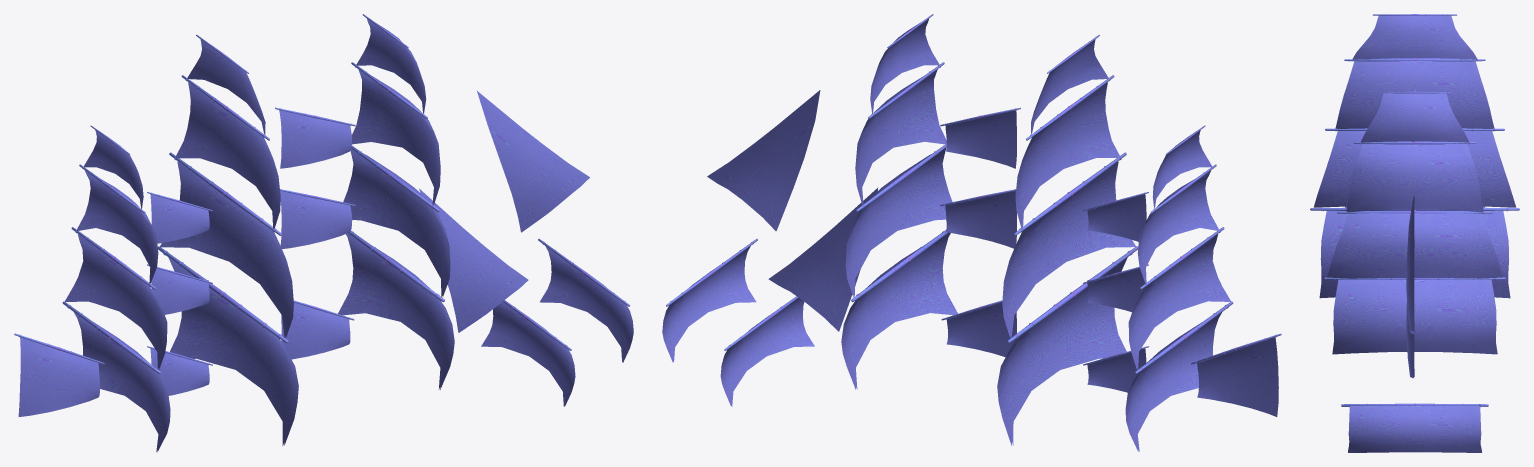
Rendered from statek_lod_zagle_lvl_04.fbx.
3 renders of one model, left to right at view 1: azimuth 30°, elevation 25°; view 2: azimuth 150°, elevation 25°; view 3: azimuth 270°, elevation 25°, orthographic. The views are drawn at different scales.
Visible parts, largest first — view 1: statek_lod_zagle_lvl_04; view 2: statek_lod_zagle_lvl_04; view 3: statek_lod_zagle_lvl_04.
Boxes of the visible parts, x1,y1,x2,y2 form: statek_lod_zagle_lvl_04: [14, 14, 633, 452]; statek_lod_zagle_lvl_04: [662, 14, 1281, 451]; statek_lod_zagle_lvl_04: [1310, 14, 1519, 452].
Bounding box in the file's own units: 8807 × 5685 × 3371.
1 material, 1 textured.
